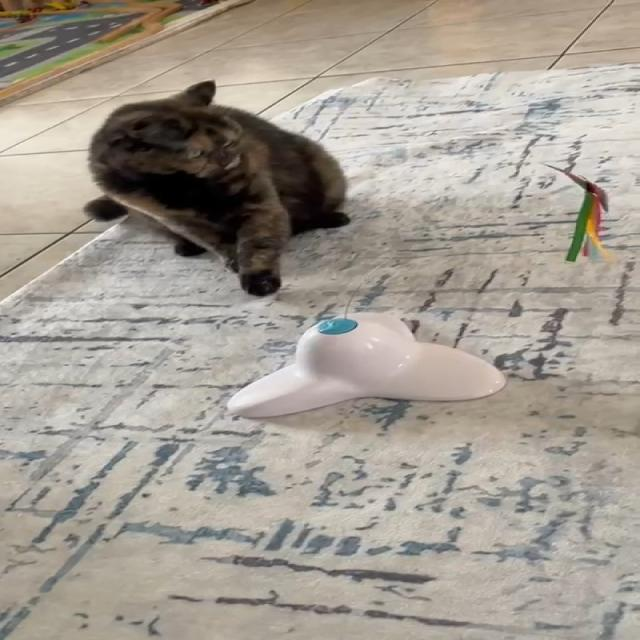authorized: (81, 78, 351, 296)
